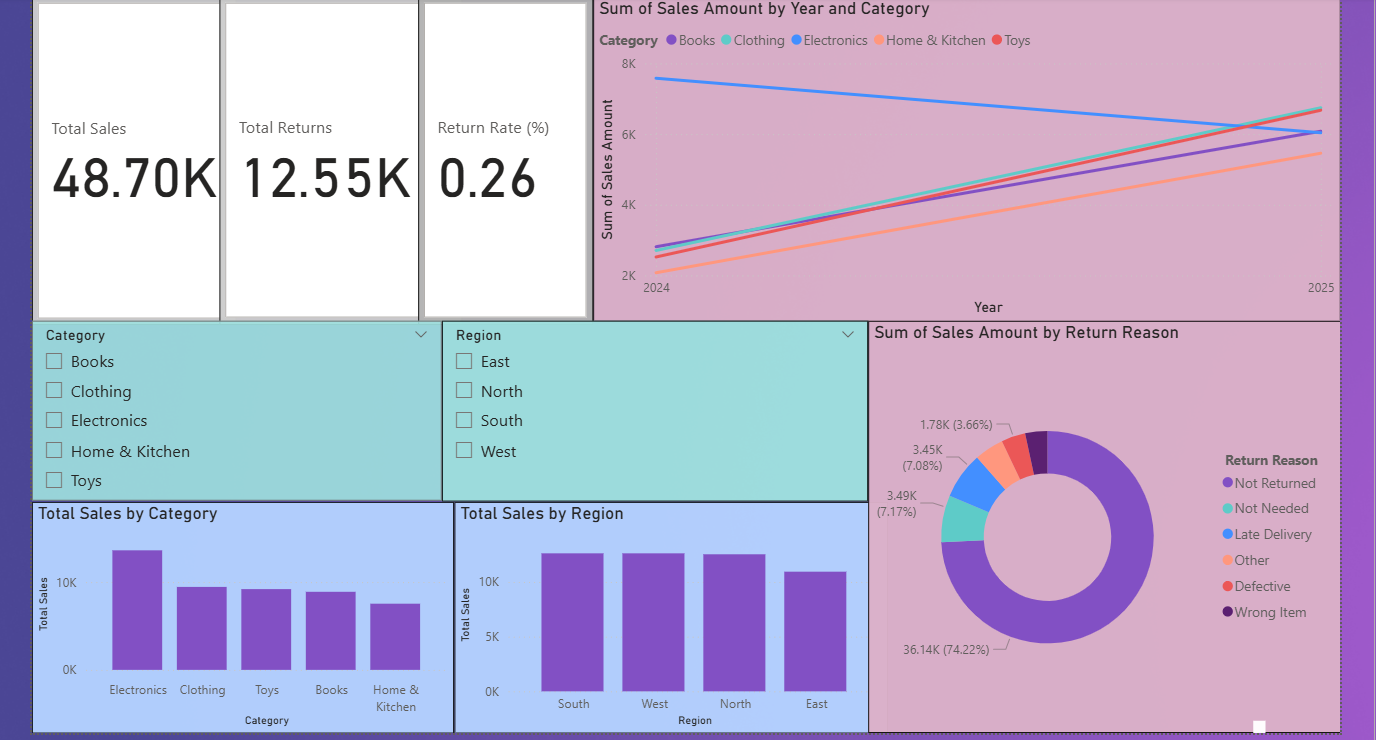

The page's visual inventory and layout, read from the dashboard file:
{"tool":"powerbi","page":{"name":"Page 1","canvas":[1280,720],"ordinal":0},"visuals":[{"type":"cardVisual","fields":{"Data":["final_cleaned_data.Total Sales"]},"box":[0,0,200.3,321.1],"z":0},{"type":"cardVisual","fields":{"Data":["final_cleaned_data.Total Returns"]},"box":[183.4,0,237.7,320.9],"z":1000},{"type":"cardVisual","fields":{"Data":["final_cleaned_data.Return Rate (%)"]},"box":[377.6,0,171.3,320.9],"z":2000},{"type":"clusteredColumnChart","fields":{"Category":["final_cleaned_data.Category"],"Y":["final_cleaned_data.Total Sales"]},"box":[0,494,413,226.4],"z":3000},{"type":"clusteredColumnChart","fields":{"Category":["final_cleaned_data.Region"],"Y":["final_cleaned_data.Total Sales"]},"box":[413,494,424,226.4],"z":4000},{"type":"donutChart","fields":{"Category":["final_cleaned_data. Return Reason"],"Y":["Sum(final_cleaned_data.Sales Amount)"]},"box":[817.8,317,462.4,403.4],"z":5000},{"type":"lineChart","fields":{"Category":["final_cleaned_data.Date.Variation.Date Hierarchy.Year","final_cleaned_data.Date.Variation.Date Hierarchy.Quarter","final_cleaned_data.Date.Variation.Date Hierarchy.Month","final_cleaned_data.Date.Variation.Date Hierarchy.Day"],"Y":["Sum(final_cleaned_data.Sales Amount)"],"Series":["final_cleaned_data.Category"]},"box":[548.9,0,731.1,317.3],"z":6000},{"type":"qnaVisual","box":[1195.2,708.1,12.3,12.3],"z":7000},{"type":"slicer","fields":{"Values":["final_cleaned_data.Category"]},"box":[0,317.3,400.5,176.1],"z":7001},{"type":"slicer","fields":{"Values":["final_cleaned_data.Region"]},"box":[400.7,317,417.2,177],"z":7002}]}

Visuals, with their boxes in screenshot pixels (x1, y1, x2, y2):
cardVisual - final_cleaned_data.Total Sales: x1=29 y1=0 x2=232 y2=323
cardVisual - final_cleaned_data.Total Returns: x1=215 y1=0 x2=456 y2=322
cardVisual - final_cleaned_data.Return Rate (%): x1=412 y1=0 x2=586 y2=322
clusteredColumnChart - final_cleaned_data.Category x final_cleaned_data.Total Sales: x1=29 y1=498 x2=448 y2=728
clusteredColumnChart - final_cleaned_data.Region x final_cleaned_data.Total Sales: x1=448 y1=498 x2=879 y2=728
donutChart - final_cleaned_data. Return Reason x Sum(final_cleaned_data.Sales Amount): x1=860 y1=318 x2=1329 y2=728
lineChart - final_cleaned_data.Date.Variation.Date Hierarchy.Year x final_cleaned_data.Date.Variation.Date Hierarchy.Quarter: x1=586 y1=0 x2=1329 y2=319
qnaVisual: x1=1243 y1=716 x2=1255 y2=728
slicer - final_cleaned_data.Category: x1=29 y1=319 x2=436 y2=498
slicer - final_cleaned_data.Region: x1=436 y1=318 x2=860 y2=498
